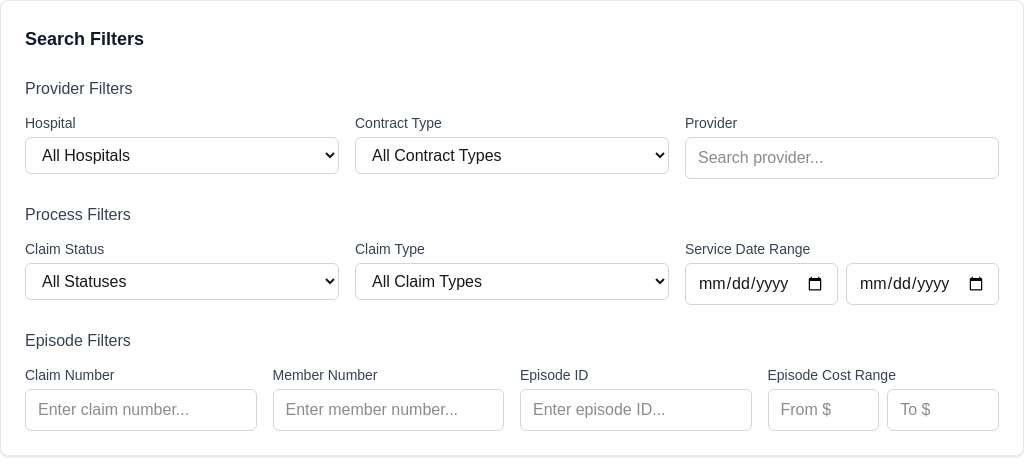
Scenario: MedicalClaimsFilters › Component Rendering › should show clear filters button when filters are active
Select "Calvary" in the dropdown below "Hospital". click: (182, 156)
box: [25,137,339,174]
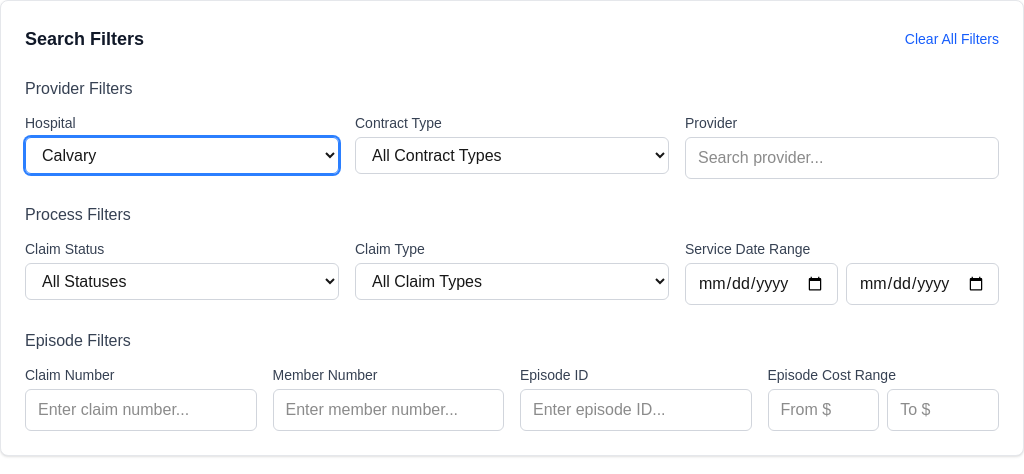
Now the button "Clear All Filters" is shown, box [905,29,999,49]
